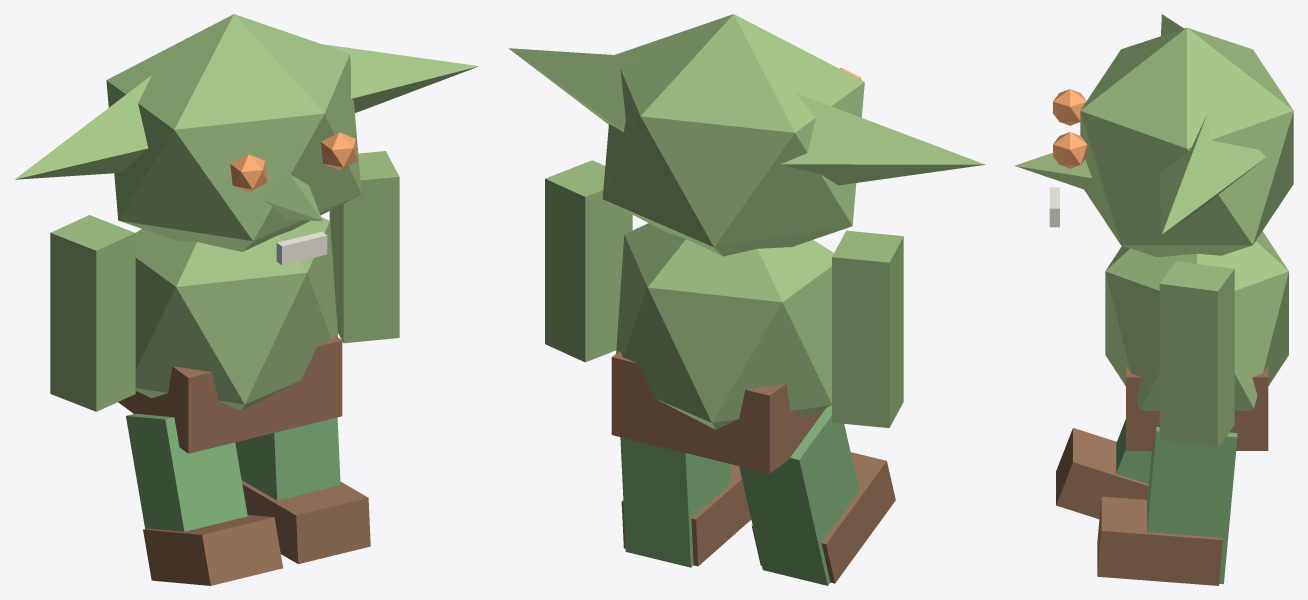
Rendered from npcpose_goblin_walk_08.glb.
The picture shows the model from 3 angles, left to right: view 1: azimuth 30°, elevation 25°; view 2: azimuth 150°, elevation 25°; view 3: azimuth 270°, elevation 25°; orthographic projection. The views are drawn at different scales.
Visible parts, largest first — view 1: npcpose; view 2: npcpose; view 3: npcpose.
Boxes of the visible parts, x1,y1,x2,y2 form: npcpose: [15, 14, 478, 585]; npcpose: [508, 14, 985, 585]; npcpose: [1014, 14, 1293, 585].
Bounding box in the file's own units: 1.03 × 1.14 × 0.5501.
